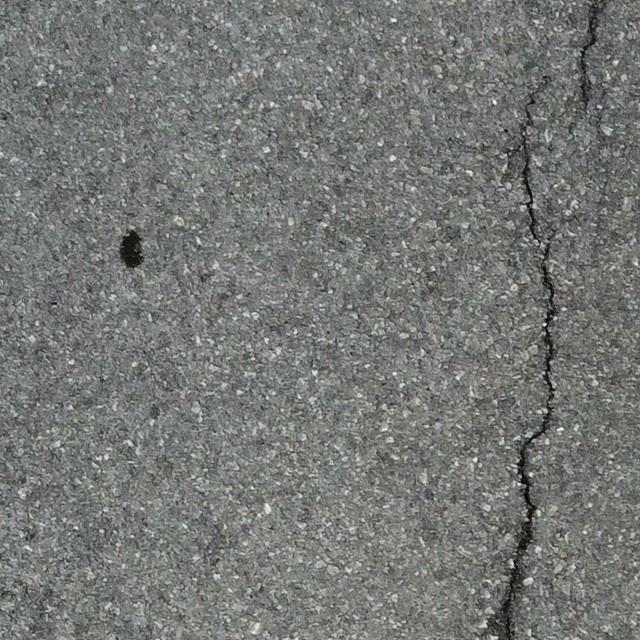LongitudinalCrack: (492, 76, 557, 640), (573, 1, 607, 113)
